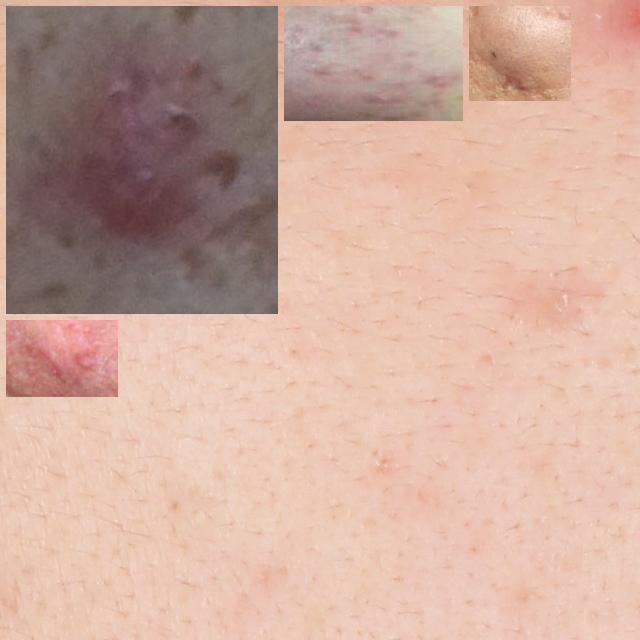nodule: (14, 14, 270, 306), (292, 14, 455, 113), (477, 14, 563, 93), (14, 328, 110, 389)
